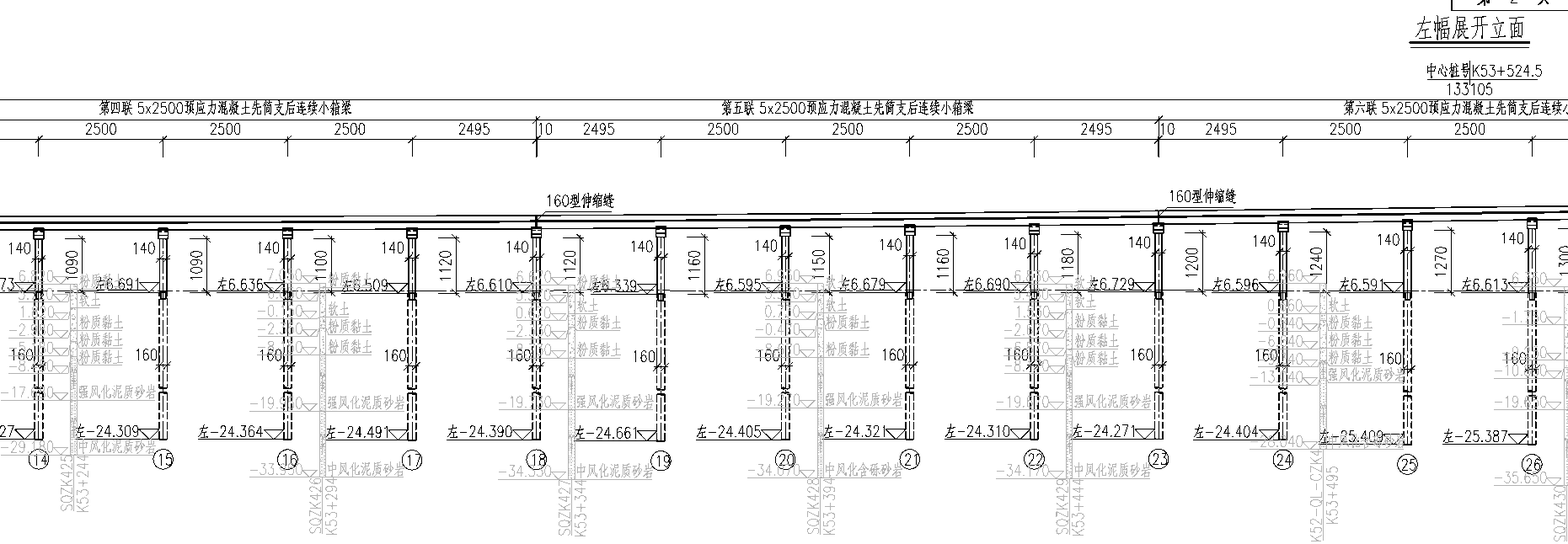B: (1149, 89, 1568, 134)
C: (1448, 212, 1553, 480), (1202, 216, 1303, 476), (1331, 213, 1428, 479), (953, 216, 1053, 474), (704, 220, 805, 474), (455, 222, 555, 474), (206, 223, 305, 474), (334, 222, 431, 476), (1084, 216, 1178, 474), (88, 223, 183, 476), (836, 219, 928, 473), (588, 221, 678, 476), (0, 224, 56, 474)
